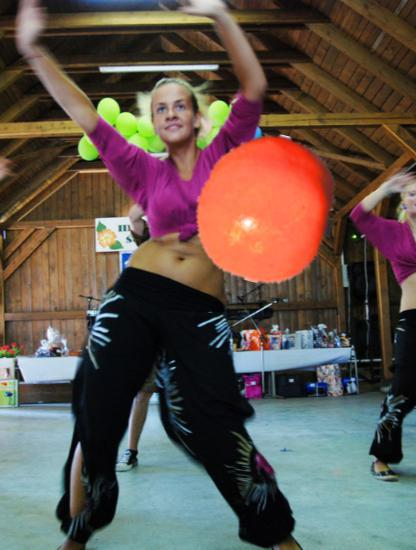Clementine: (191, 133, 341, 283)
